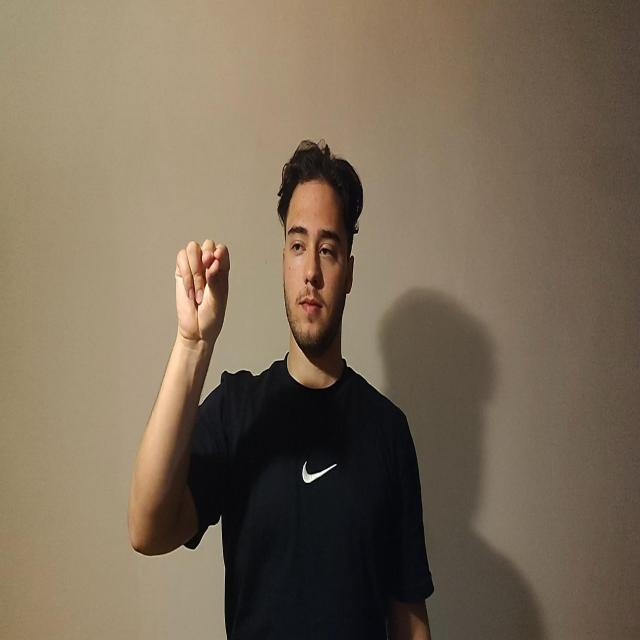no: (174, 238, 230, 348)
